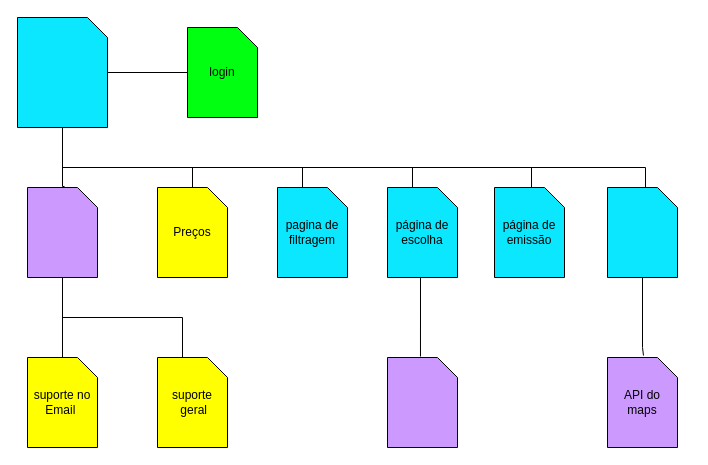
The diagram is 708 pixels wide and 465 high, and some of its shapes have lost their labels. Here are the shapes that lost their labels. From the top down, the centre of each, then its label:
the point at 62,72: página inicial
the point at 62,232: Suporte
the point at 642,232: página de acompanhamento
the point at 422,402: imagem das linhas de ônibus em carrossel
